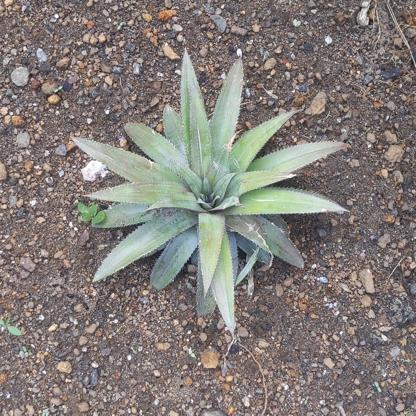pineapple: (69, 47, 352, 337)
